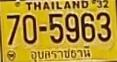0: (22, 14, 36, 43)
3: (96, 11, 110, 41)
5: (48, 13, 62, 42)
6: (80, 12, 94, 41)
7: (6, 14, 19, 44)
9: (64, 12, 78, 42)
UBN: (29, 45, 93, 62)
